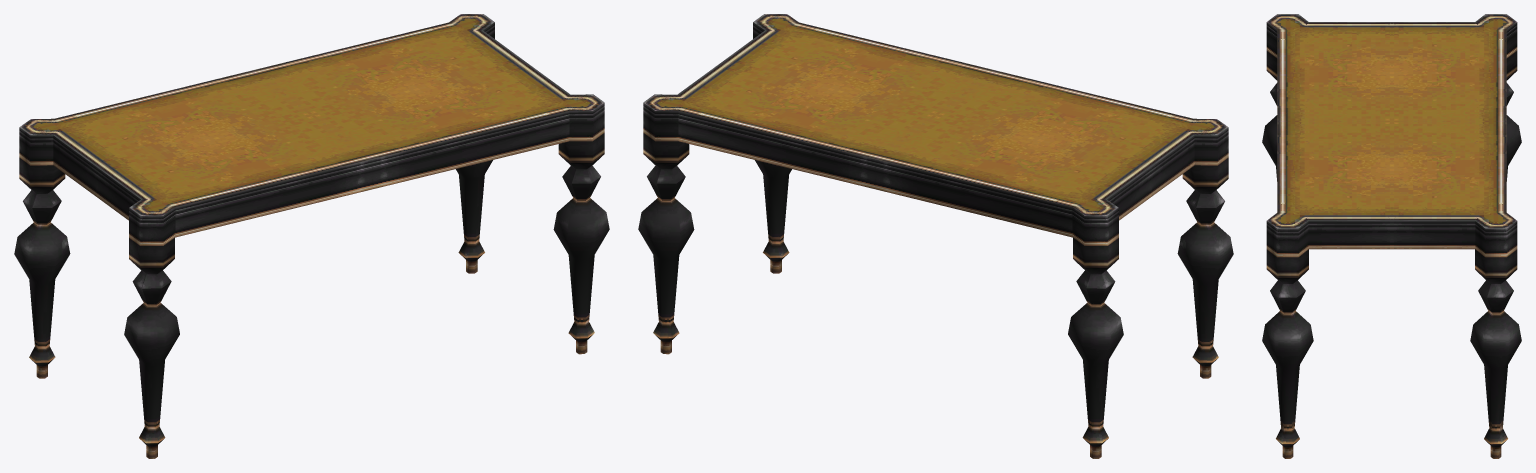
The model's file is furni_0200306_03.FBX.
3 views of the same model, side by side, from view 1: azimuth 30°, elevation 25°; view 2: azimuth 150°, elevation 25°; view 3: azimuth 270°, elevation 25° (orthographic). The views are drawn at different scales.
Visible parts, largest first — view 1: furni_0200306_03; view 2: furni_0200306_03; view 3: furni_0200306_03.
Part boxes in pixels (x1,y1,x2,y2): furni_0200306_03: (14, 14, 609, 458); furni_0200306_03: (638, 14, 1233, 458); furni_0200306_03: (1262, 14, 1521, 458).
Bounding box in the file's own units: 158 × 79.93 × 79.66.
Materials: 1 (1 with a texture image).
